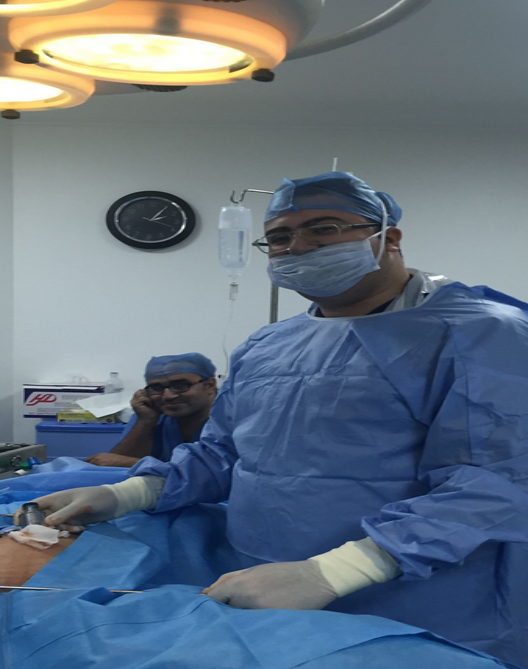mask_weared_incorrect: (243, 176, 403, 302)
